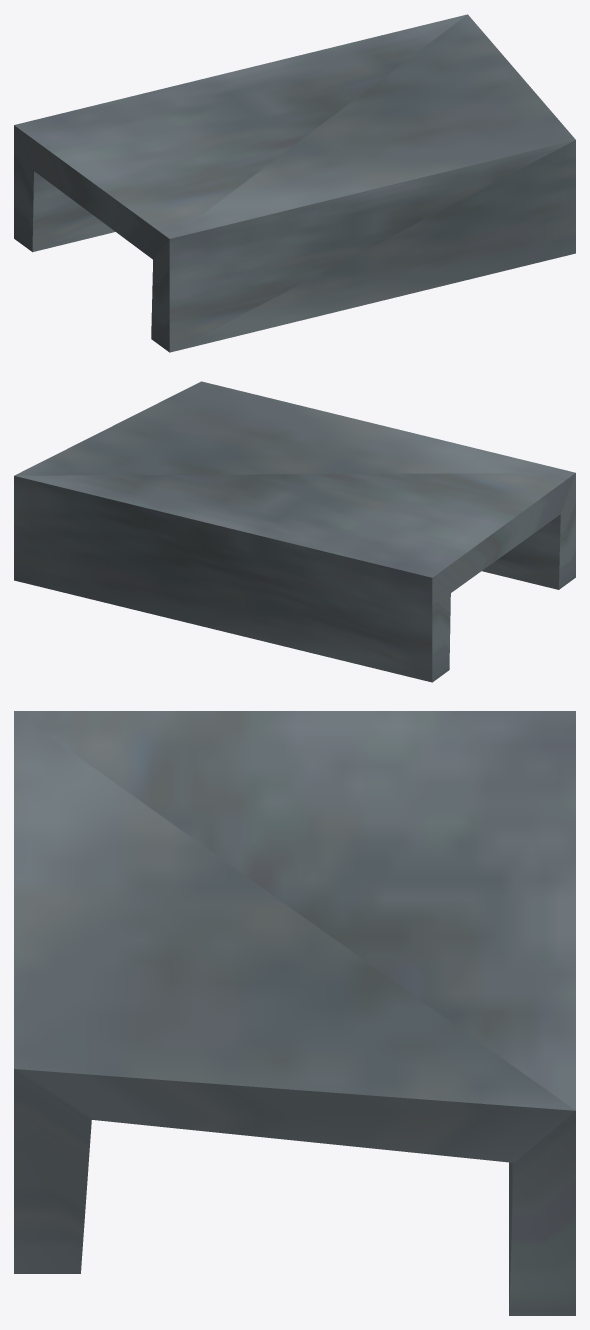
Rendered from Shared - Ground Vehicles - Big Rig - Damage State 15 - CVBigRig_d15.glb.
3 views of the same model, one above another, from view 1: azimuth 30°, elevation 25°; view 2: azimuth 150°, elevation 25°; view 3: azimuth 270°, elevation 25° (orthographic). The views are drawn at different scales.
Parts seen in each view (by area): view 1: CVBIGRIG_D15; view 2: CVBIGRIG_D15; view 3: CVBIGRIG_D15.
Boxes of the visible parts, box(x1,y1,x2,y2) form: CVBIGRIG_D15: box(14, 14, 575, 352); CVBIGRIG_D15: box(14, 381, 575, 682); CVBIGRIG_D15: box(14, 711, 575, 1315).
Bounding box in the file's own units: 8.16 × 1.95 × 4.85.
Materials: 1 (1 with a texture image).
